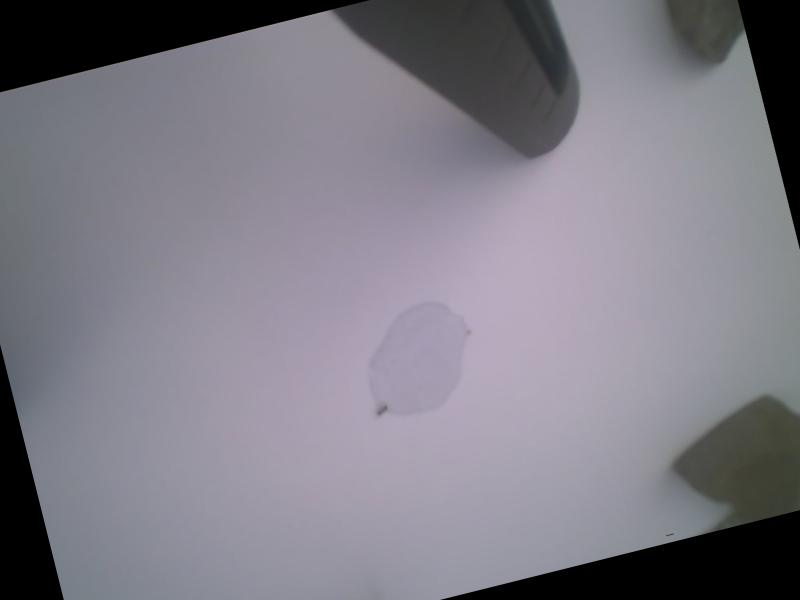Ant: (374, 402, 388, 416)
